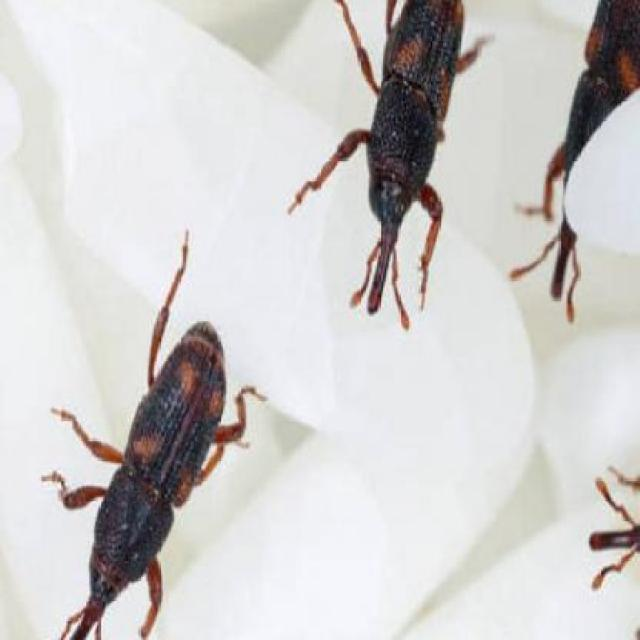rice-bug: (50, 301, 235, 640), (326, 2, 480, 308), (543, 0, 640, 300)
